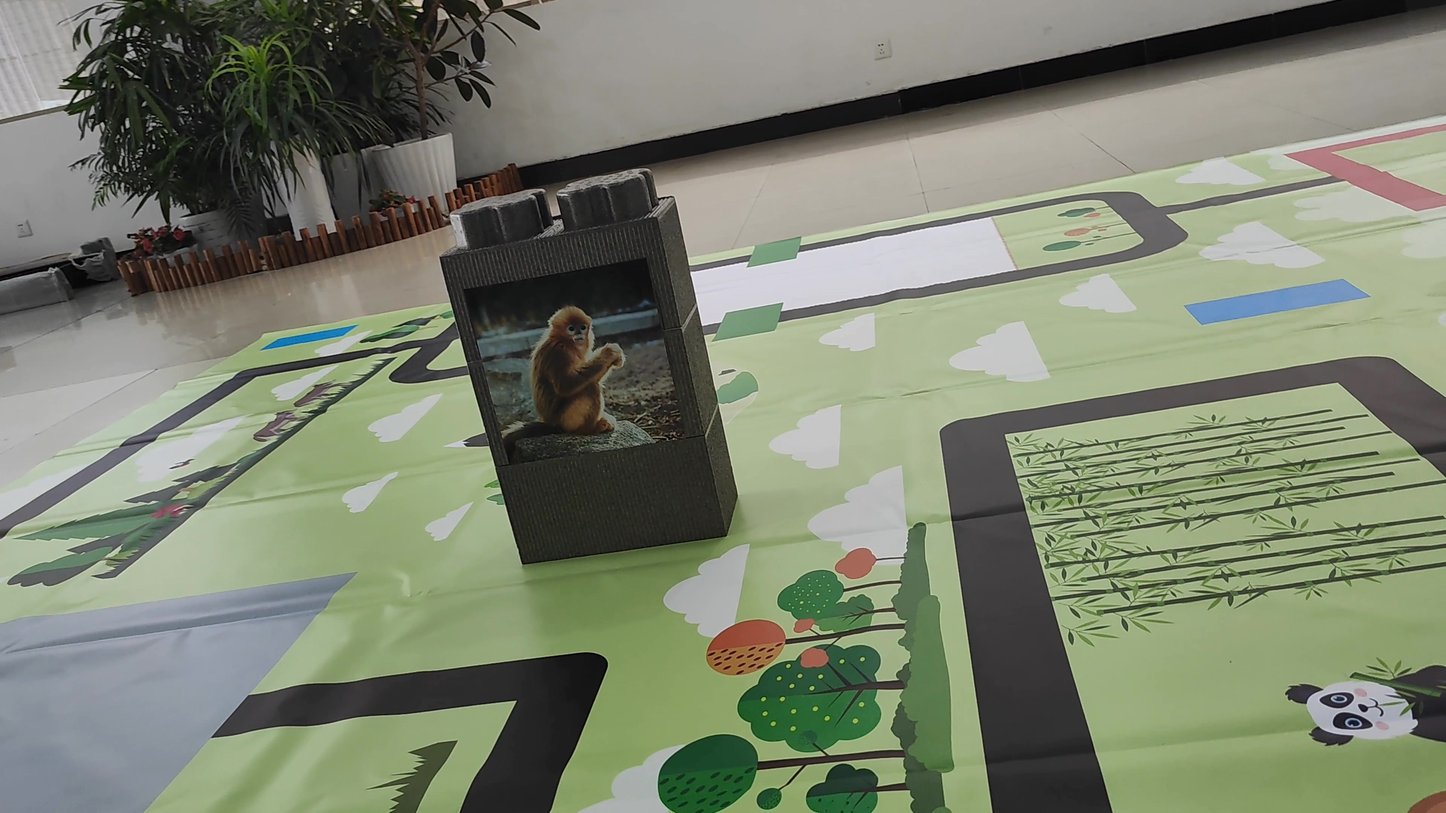monkey: (490, 271, 665, 454)
